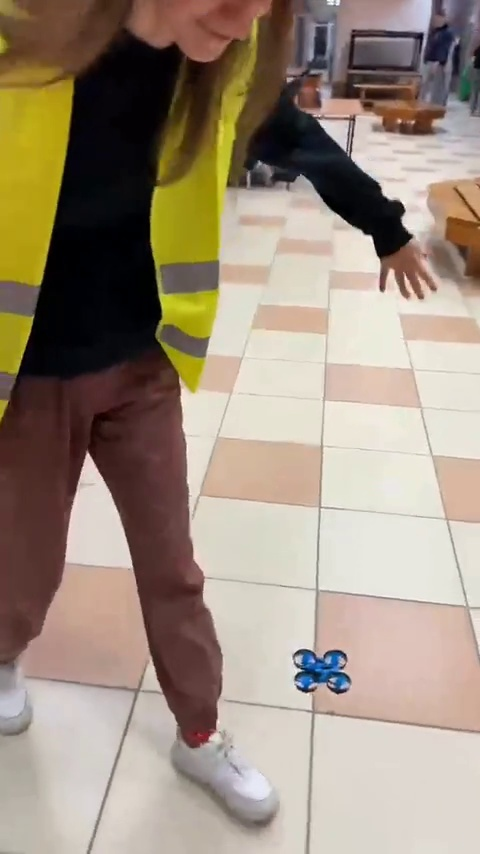drone: (289, 649, 349, 692)
no vest: (417, 7, 454, 104)
vest: (0, 2, 260, 785)
